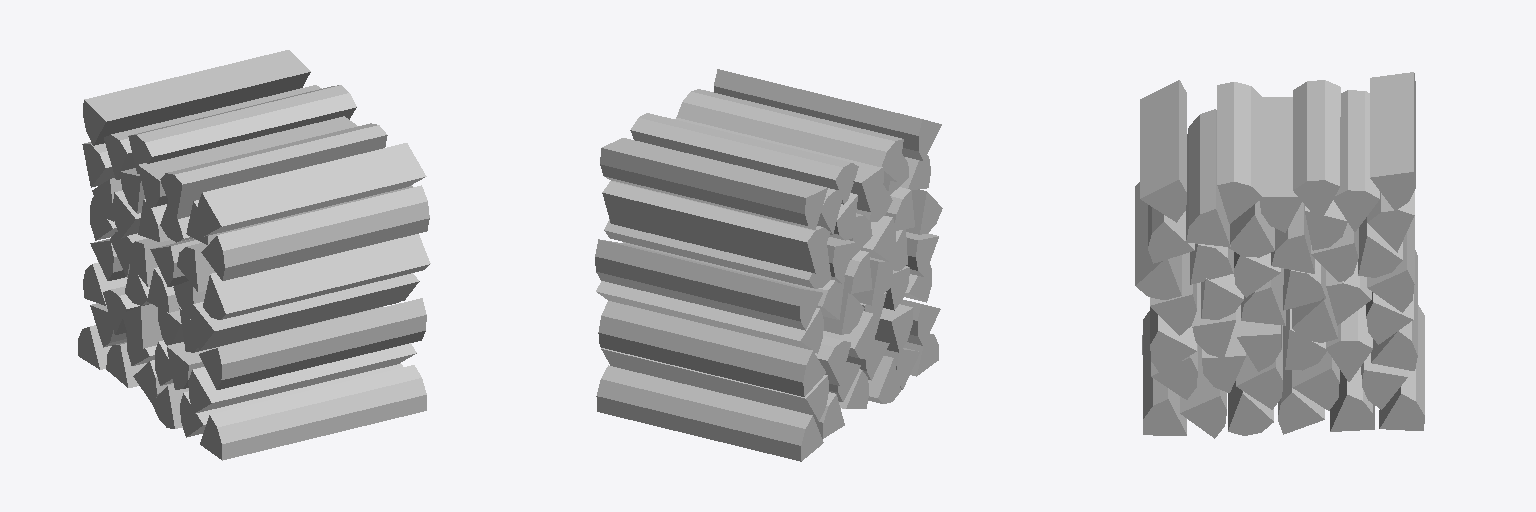
File: fire_wood_bundle.obj
The picture shows the model from 3 angles: view 1: azimuth 30°, elevation 25°; view 2: azimuth 150°, elevation 25°; view 3: azimuth 270°, elevation 25°; orthographic projection.
Parts seen in each view (by area): view 1: Cylinder.001, Cylinder.018, Cylinder.003, Cylinder.013, Cylinder.040, Cylinder.017, Cylinder.041, Cylinder.039, Cylinder.016, Cylinder.012, Cylinder.038, Cylinder.037 (+28 smaller); view 2: Cylinder.002, Cylinder.010, Cylinder.040, Cylinder.004, Cylinder.031, Cylinder.039, Cylinder.041, Cylinder.003, Cylinder.029, Cylinder.009, Cylinder.033, Cylinder.038 (+27 smaller); view 3: Cylinder.041, Cylinder.003, Cylinder.039, Cylinder.040, Cylinder.024, Cylinder.037, Cylinder.038, Cylinder.017, Cylinder.001, Cylinder.002, Cylinder.020, Cylinder.005 (+28 smaller).
Boxes of the visible parts, box(x1,y1,x2,y2) form: Cylinder.001: box(200, 365, 426, 460); Cylinder.018: box(201, 185, 429, 280); Cylinder.003: box(198, 143, 426, 236); Cylinder.013: box(199, 298, 426, 389); Cylinder.040: box(83, 50, 310, 145); Cylinder.017: box(203, 234, 430, 319); Cylinder.041: box(128, 85, 356, 173); Cylinder.039: box(160, 123, 387, 218); Cylinder.016: box(191, 273, 419, 350); Cylinder.012: box(188, 343, 416, 413); Cylinder.038: box(138, 116, 357, 207); Cylinder.037: box(104, 85, 321, 179); Cylinder.002: box(596, 365, 823, 461); Cylinder.010: box(598, 301, 825, 396); Cylinder.040: box(600, 138, 827, 229); Cylinder.004: box(602, 181, 830, 273); Cylinder.031: box(595, 239, 822, 330); Cylinder.039: box(676, 89, 903, 181); Cylinder.041: box(630, 113, 858, 204); Cylinder.003: box(714, 69, 941, 160); Cylinder.029: box(596, 281, 823, 353); Cylinder.009: box(601, 348, 828, 421); Cylinder.033: box(604, 219, 830, 288); Cylinder.038: box(675, 118, 883, 211); Cylinder.041: box(1293, 80, 1340, 221); Cylinder.003: box(1140, 80, 1186, 222); Cylinder.039: box(1217, 82, 1262, 223); Cylinder.040: box(1370, 72, 1415, 210); Cylinder.024: box(1186, 109, 1230, 246); Cylinder.037: box(1333, 90, 1379, 231); Cylinder.038: box(1260, 97, 1301, 232); Cylinder.017: box(1135, 182, 1181, 299); Cylinder.001: box(1142, 311, 1186, 435); Cylinder.002: box(1379, 305, 1424, 430); Cylinder.020: box(1326, 305, 1372, 381); Cylinder.005: box(1180, 345, 1226, 438).
Bounding box in the file's own units: 0.8673 × 0.998 × 0.9856.